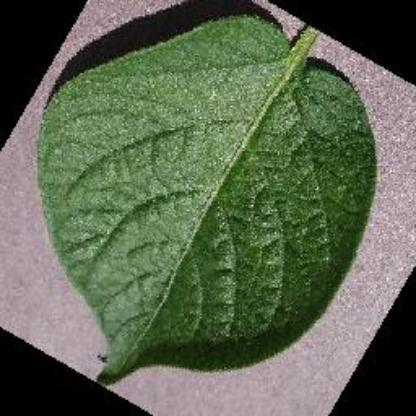Healthy-plant: (32, 21, 388, 393)
